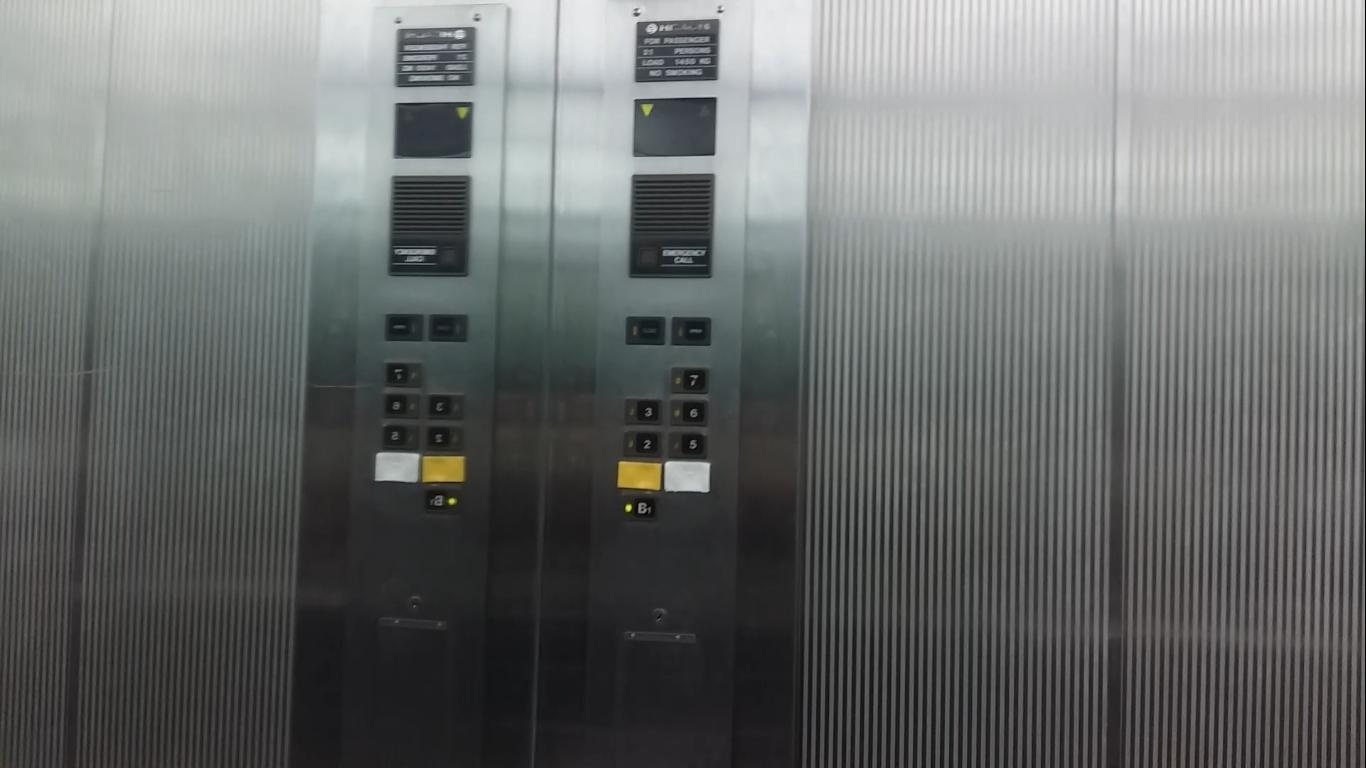2: (621, 431, 666, 459)
3: (620, 397, 665, 427)
5: (668, 431, 710, 458)
6: (666, 397, 710, 427)
7: (665, 366, 710, 395)
B1: (617, 492, 660, 522)
blur: (623, 314, 668, 347), (668, 314, 712, 347), (428, 313, 468, 343), (383, 314, 424, 341)
empty: (419, 453, 469, 486), (662, 460, 710, 494), (373, 451, 422, 484), (616, 458, 663, 492)
led: (632, 98, 717, 156), (393, 102, 473, 159)
unknown: (383, 361, 422, 389), (425, 485, 463, 513), (427, 393, 464, 421), (382, 392, 420, 419), (380, 424, 421, 449), (425, 426, 462, 452)
